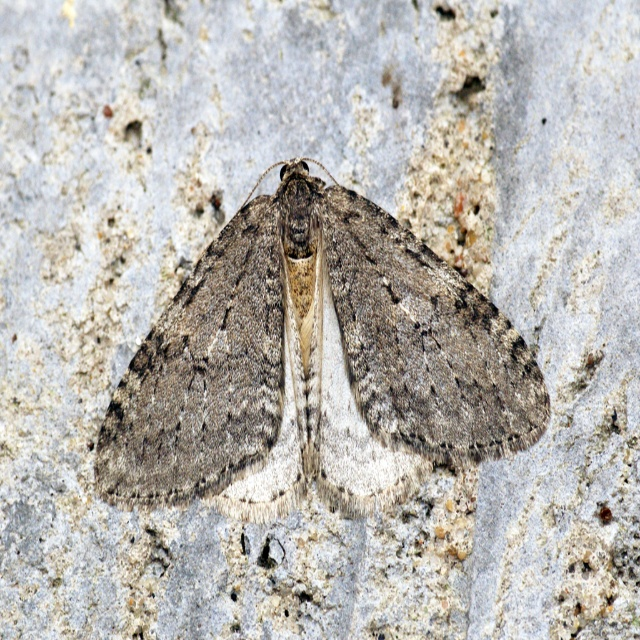Butterfly: (96, 156, 550, 523)
